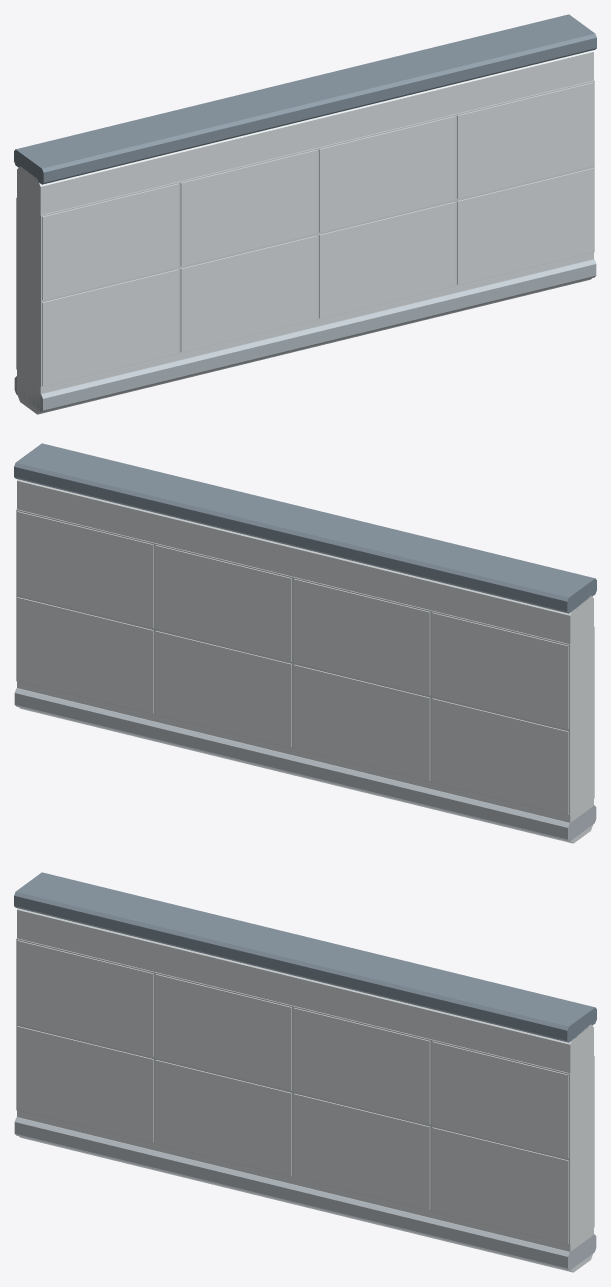
File: wall_hospital_lab.glb
3 renders of one model, top to bottom at view 1: azimuth 30°, elevation 25°; view 2: azimuth 150°, elevation 25°; view 3: azimuth 330°, elevation 25°, orthographic.
Visible parts, largest first — view 1: Part_001, Part_002, Part_009, Part_017, Part_013, Part_015, Part_007, Part_021, Part_011, Part_019, Part_003, Part_005; view 2: Part_001, Part_002, Part_008, Part_016, Part_012, Part_014, Part_006, Part_020, Part_010, Part_018, Part_003, Part_004; view 3: Part_001, Part_002, Part_011, Part_019, Part_007, Part_021, Part_013, Part_015, Part_009, Part_017, Part_003, Part_005.
Part boxes in pixels (box(x1,y1,x2,y2)): Part_001: box(17, 50, 593, 414); Part_002: box(14, 14, 596, 184); Part_009: box(180, 235, 317, 352); Part_017: box(180, 150, 317, 266); Part_013: box(457, 168, 593, 284); Part_015: box(42, 183, 178, 300); Part_007: box(42, 269, 178, 385); Part_021: box(457, 82, 593, 198); Part_011: box(319, 202, 455, 318); Part_019: box(319, 116, 455, 232); Part_003: box(14, 259, 596, 412); Part_005: box(40, 80, 594, 387); Part_001: box(17, 479, 593, 843); Part_002: box(14, 443, 596, 613); Part_008: box(293, 664, 430, 781); Part_016: box(293, 579, 430, 695); Part_012: box(17, 597, 153, 713); Part_014: box(432, 612, 568, 729); Part_006: box(432, 698, 568, 814); Part_020: box(17, 511, 153, 627); Part_010: box(155, 631, 291, 747); Part_018: box(155, 545, 291, 661); Part_003: box(14, 688, 596, 841); Part_004: box(16, 509, 570, 816); Part_001: box(17, 908, 593, 1272); Part_002: box(14, 872, 596, 1042); Part_011: box(293, 1093, 430, 1210); Part_019: box(293, 1008, 430, 1124); Part_007: box(17, 1026, 153, 1142); Part_021: box(432, 1041, 568, 1158); Part_013: box(432, 1127, 568, 1243); Part_015: box(17, 940, 153, 1056); Part_009: box(155, 1060, 291, 1176); Part_017: box(155, 974, 291, 1090); Part_003: box(14, 1117, 596, 1270); Part_005: box(16, 938, 570, 1245).
Bounding box in the file's own units: 2.7 × 1.16 × 0.25.
